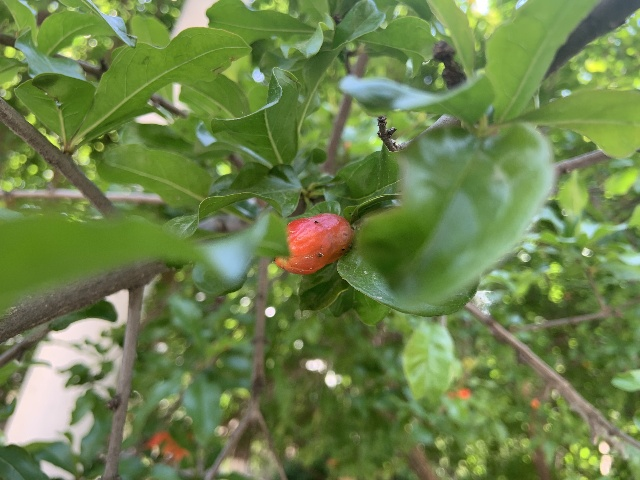bud: (275, 213, 354, 275)
